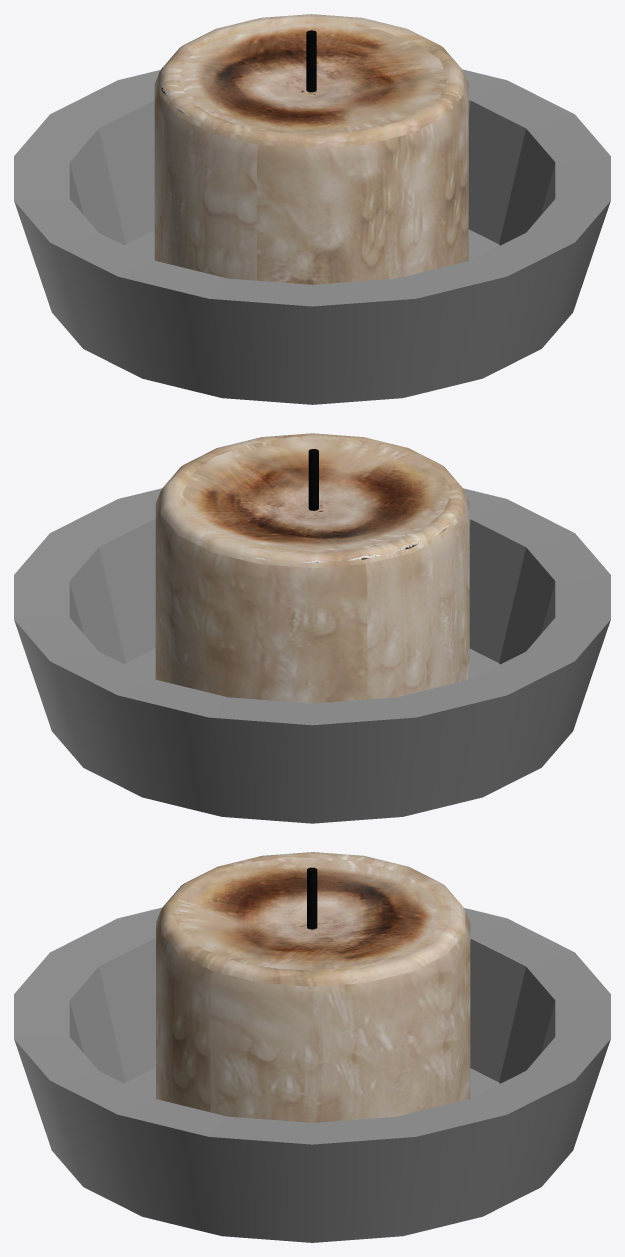
Rendered from Candle.FBX.
The picture shows the model from 3 angles, top to bottom: view 1: azimuth 30°, elevation 25°; view 2: azimuth 150°, elevation 25°; view 3: azimuth 270°, elevation 25°; orthographic projection.
Parts seen in each view (by area): view 1: Candle; view 2: Candle; view 3: Candle.
Part boxes in pixels (x1,y1,x2,y2): Candle: (14, 14, 610, 404); Candle: (14, 433, 610, 823); Candle: (14, 852, 610, 1242).
Size of the model in its own units: 14.03 by 6.66 by 13.81.
2 materials, 1 textured.
